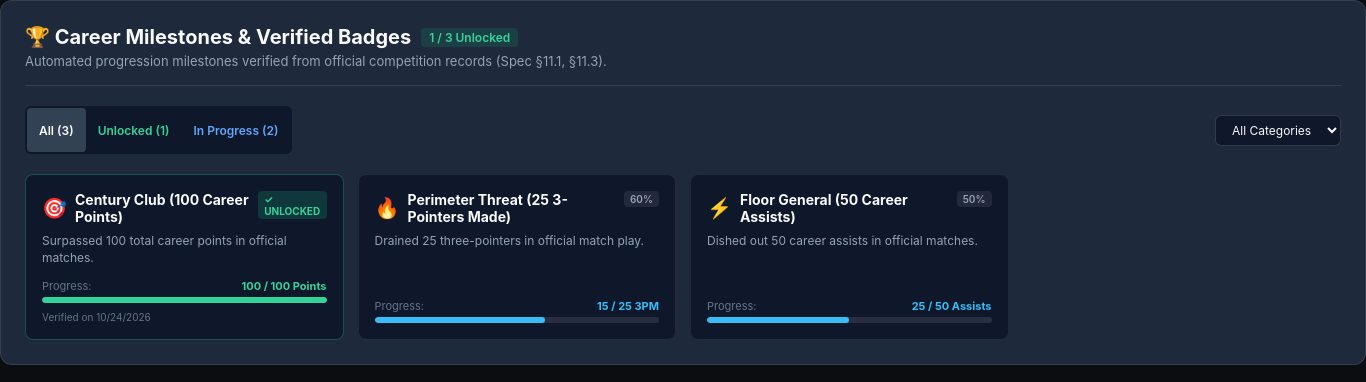
Test: CareerMilestones Component (Spec §11.1, §11.3) › filters milestones by Unlocked and In Progress tabs
Note: Switch to Unlocked tab
Step 1. Click the button "Unlocked (1)" → (134, 130), box [86,108,181,152]
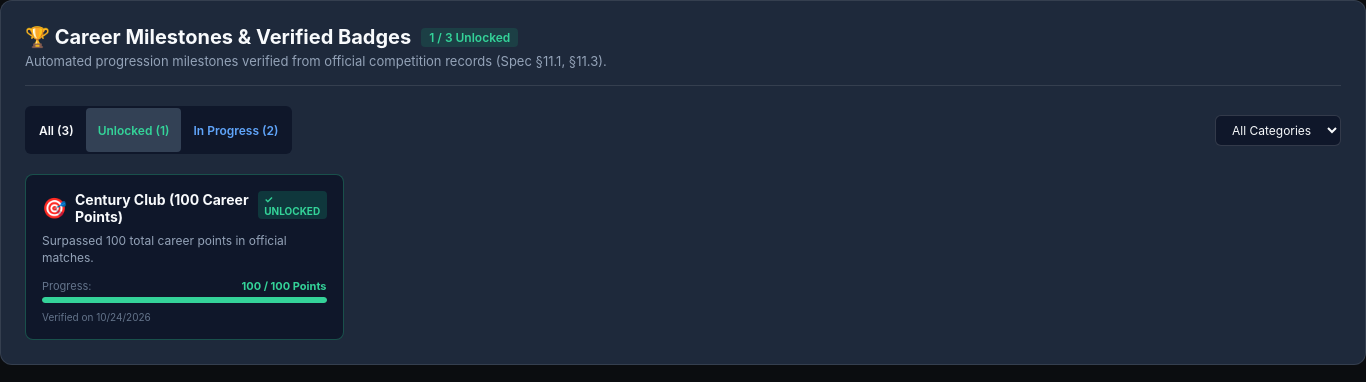
Expected: the heading "Century Club (100 Career Points)" is shown, [75,191,258,225]
Result: the heading "Perimeter Threat (25 3-Pointers Made)" is gone
Note: Switch to In Progress tab
Step 2. Click the button "In Progress (2)" → (236, 130), box [182,108,290,152]
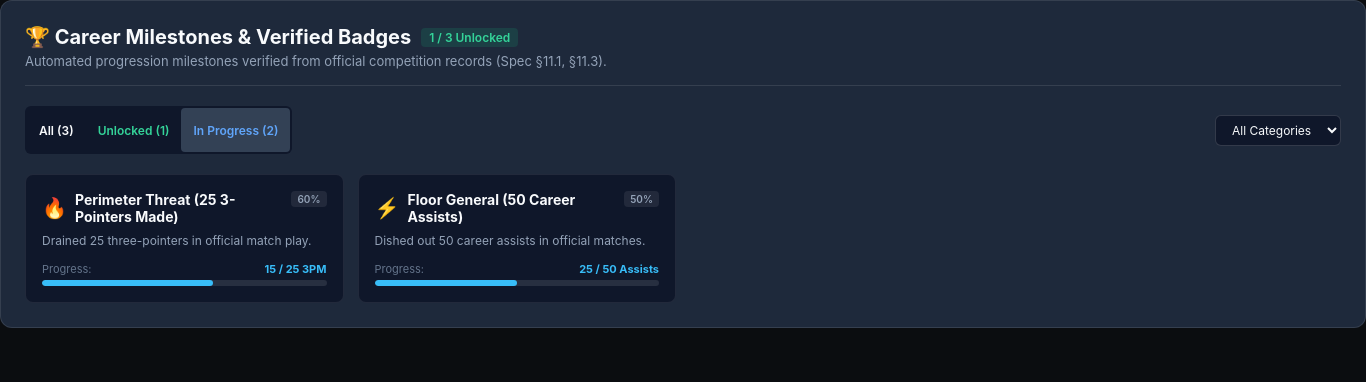
Result: the heading "Century Club (100 Career Points)" is gone
Result: the heading "Perimeter Threat (25 3-Pointers Made)" is shown at [75,191,236,225]
Result: the heading "Floor General (50 Career Assists)" is shown at [408,191,575,225]
